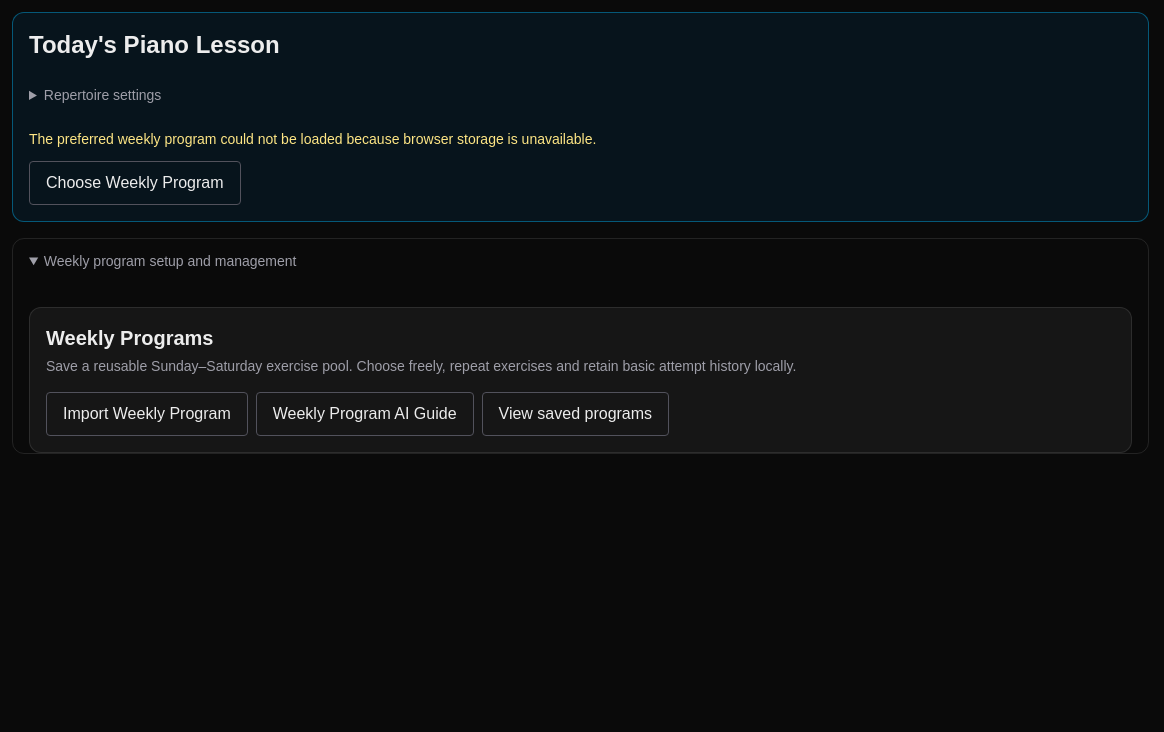
Test: one-action morning launch through the existing V2 owner › keeps an explicit choice usable for this tab when preference storage is denied
Expected: the text "browser storage is unavailable" is shown, [29,131,596,147]
Click the button "Choose Weekly Program" at (135, 183), box [29,161,241,205]
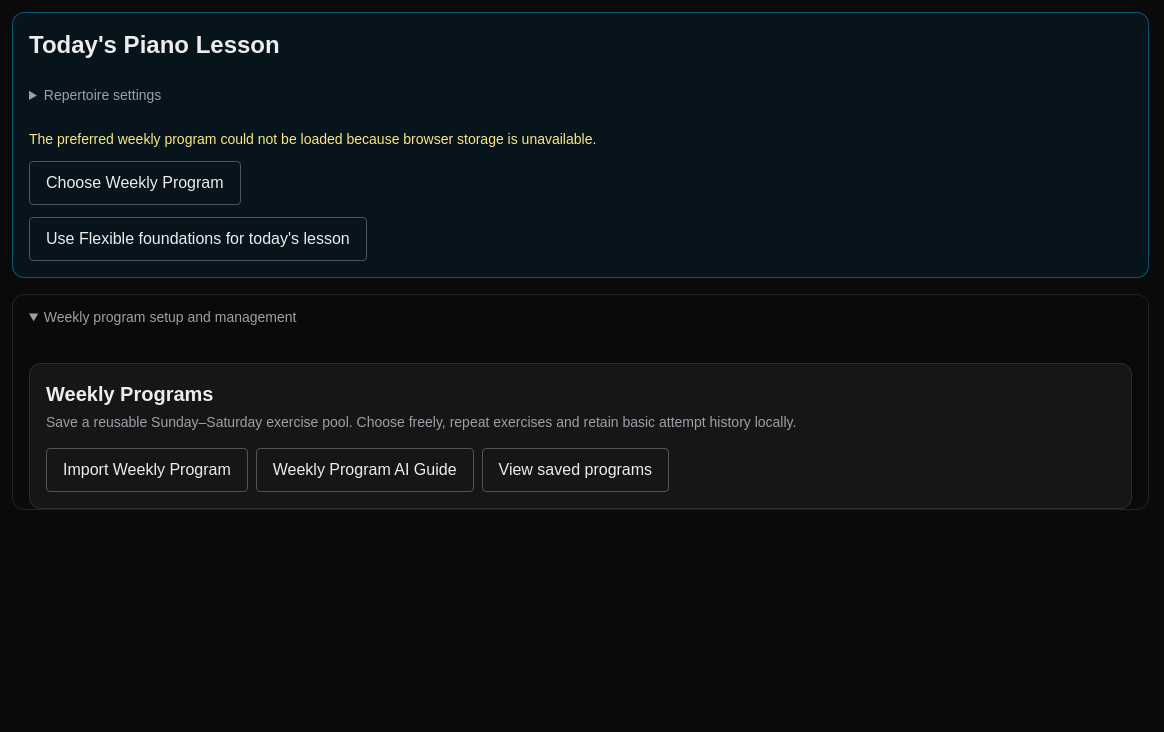
Click the button "Use Flexible foundations for today's lesson" at (198, 239), box [29,217,367,261]
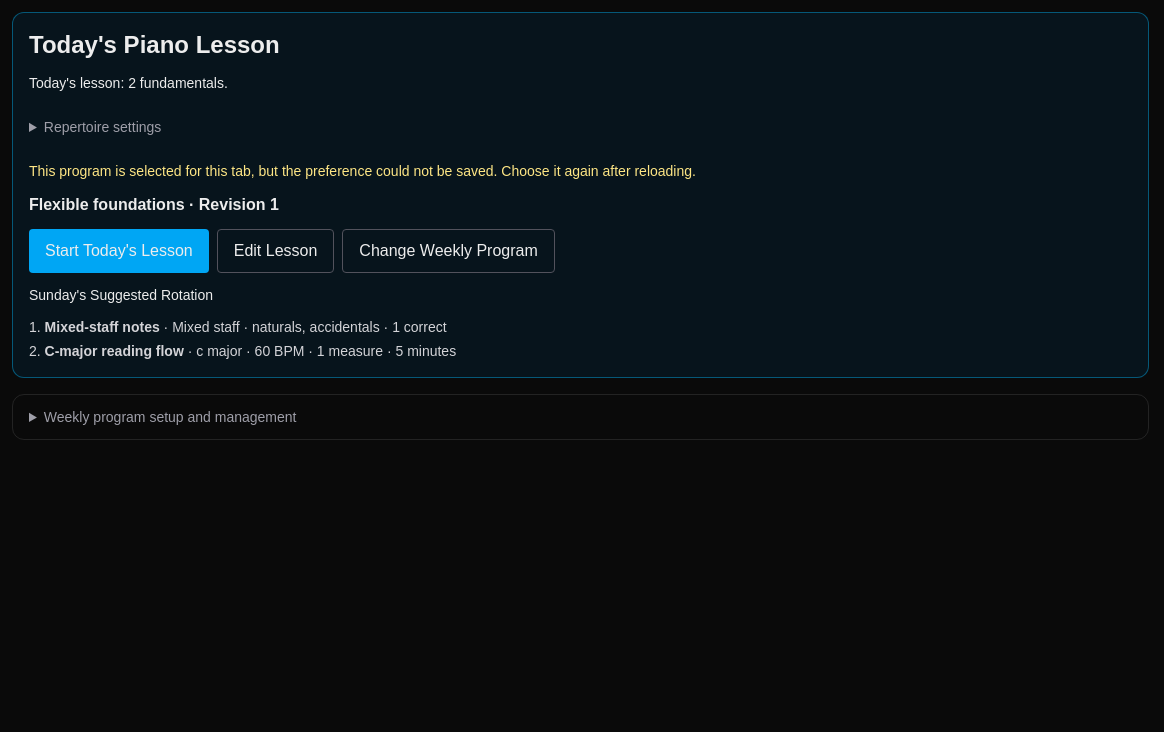
Now the button "Start Today's Lesson" is enabled
Click the button "Start Today's Lesson" at (119, 251), box [29,229,209,273]
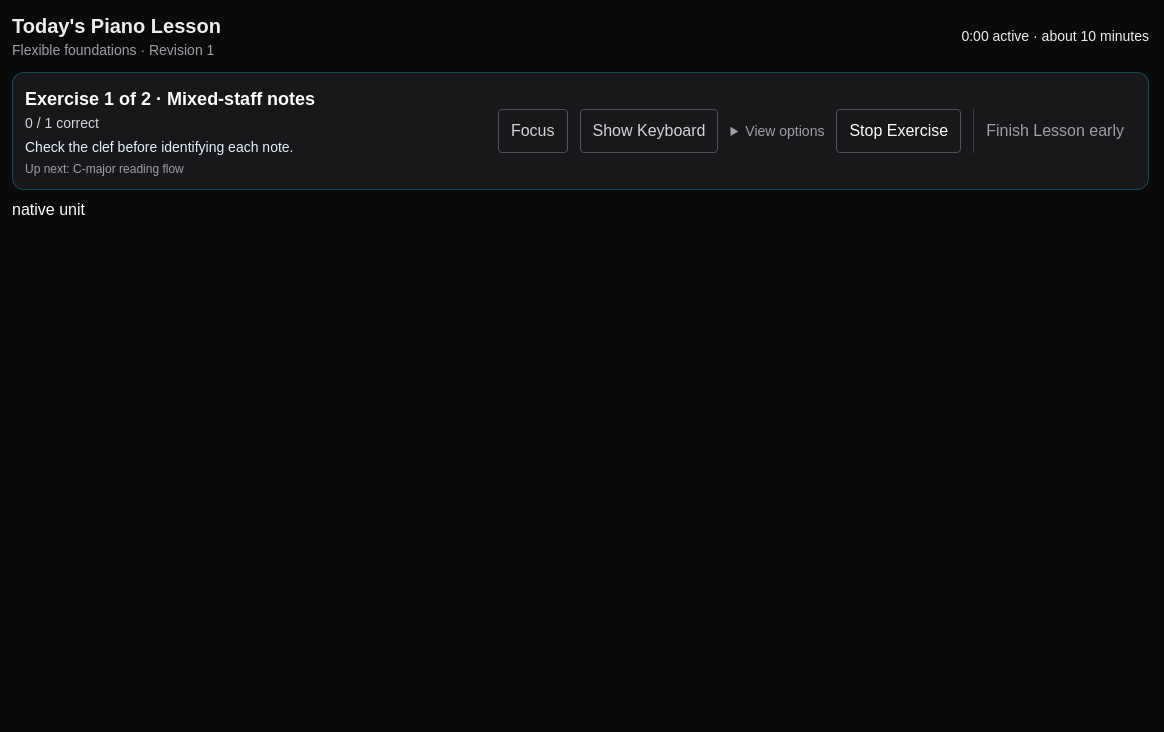
Now the element with test id "native" is shown, box [12,198,85,222]
